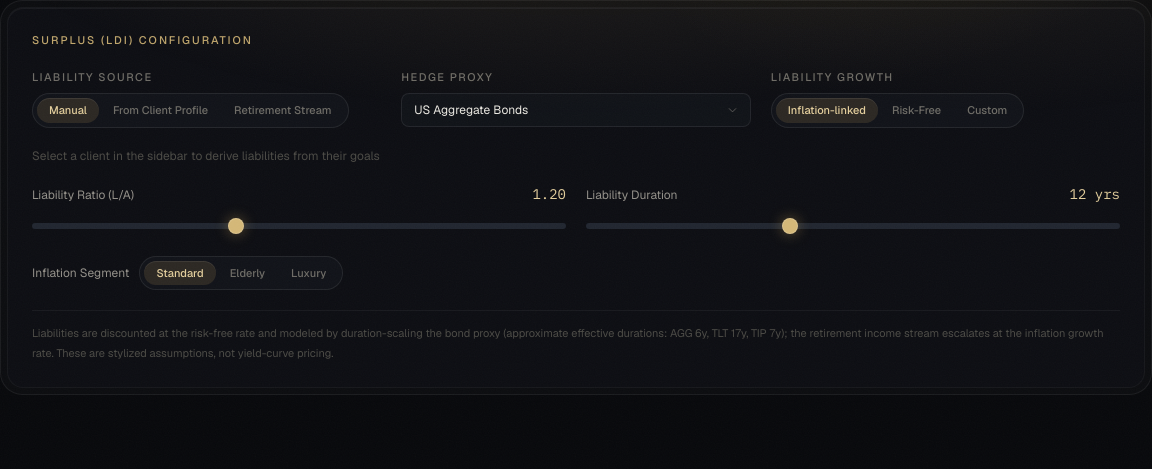
Scenario: SurplusConfigPanel › switches to the retirement channel inputs
Step 1. Click the button "Retirement Stream" → (283,110), box [222,98,344,122]
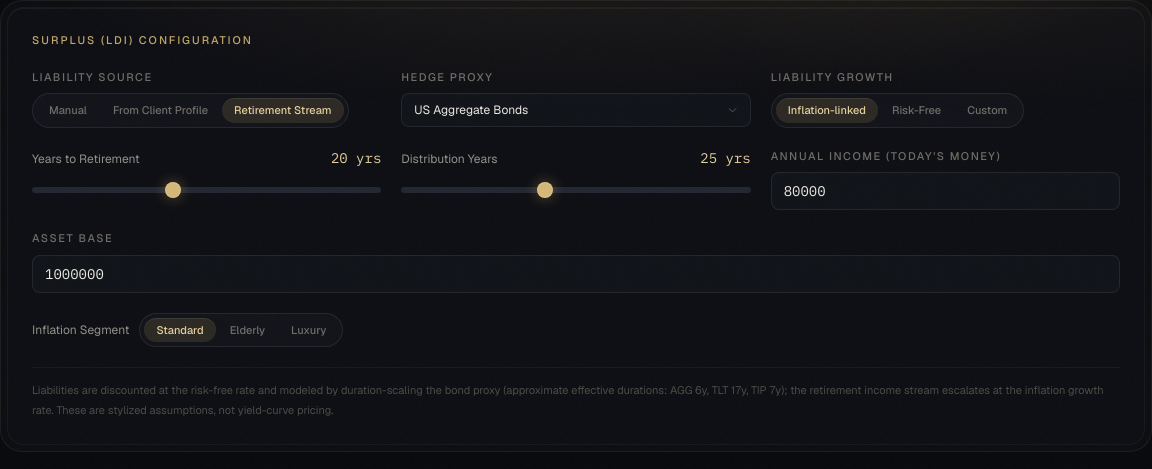
Expected: the text "Years to Retirement" is shown, [32,150,140,166]
Expected: the text "Distribution Years" is shown, [401,150,498,166]
Expected: the text "Annual Income (today's money)" is shown, [771,148,1001,162]
